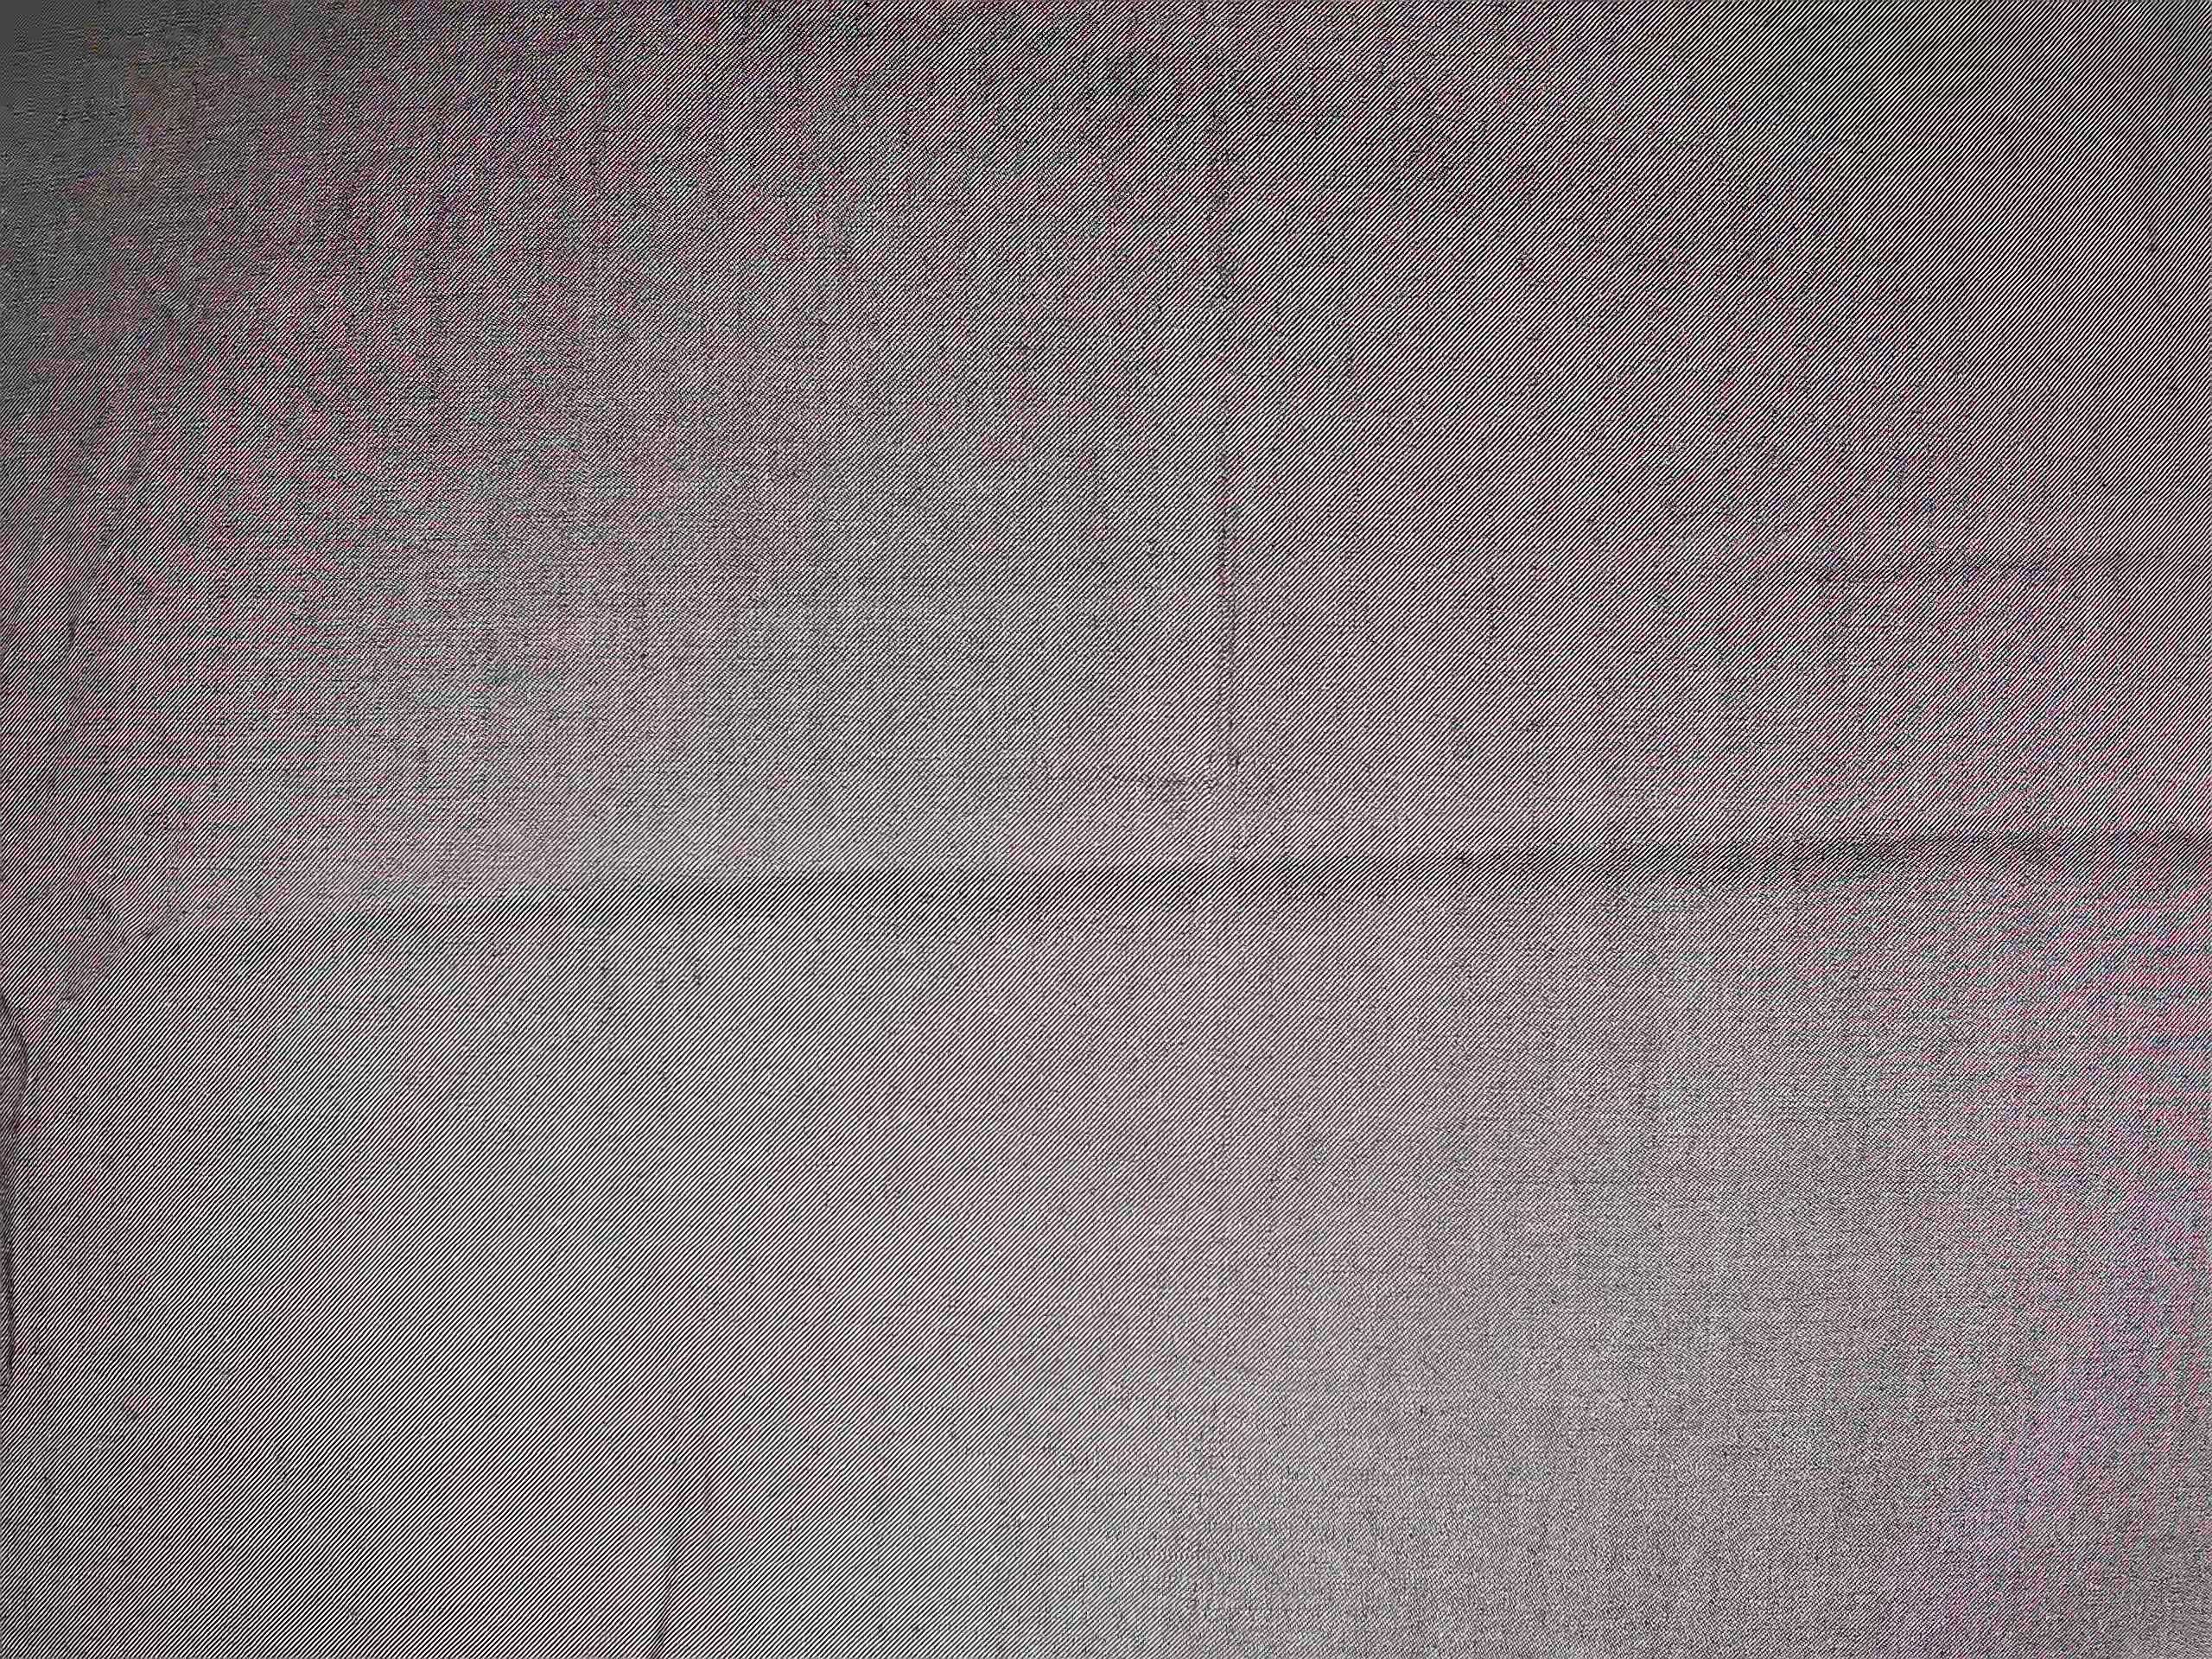hanging-warp: (1197, 59, 1251, 817)
